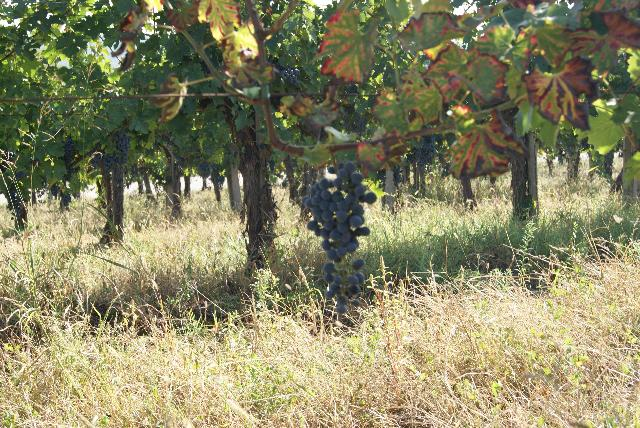grapes: (302, 161, 378, 314)
